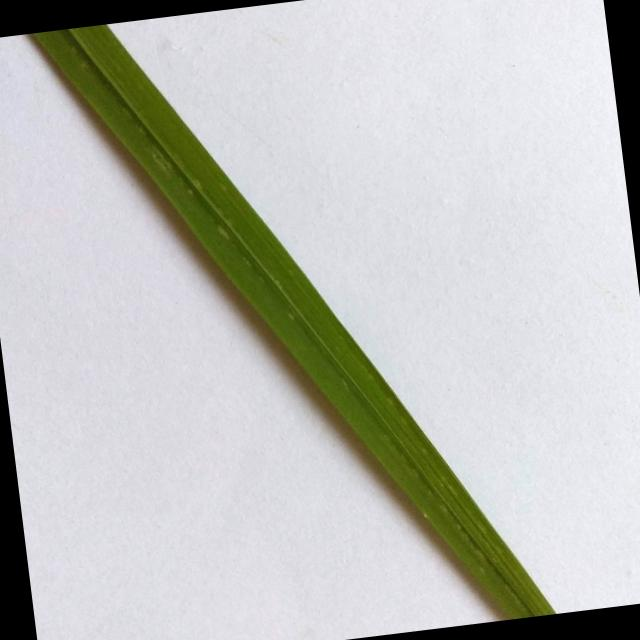Rice_Healthy: (33, 24, 555, 618)
